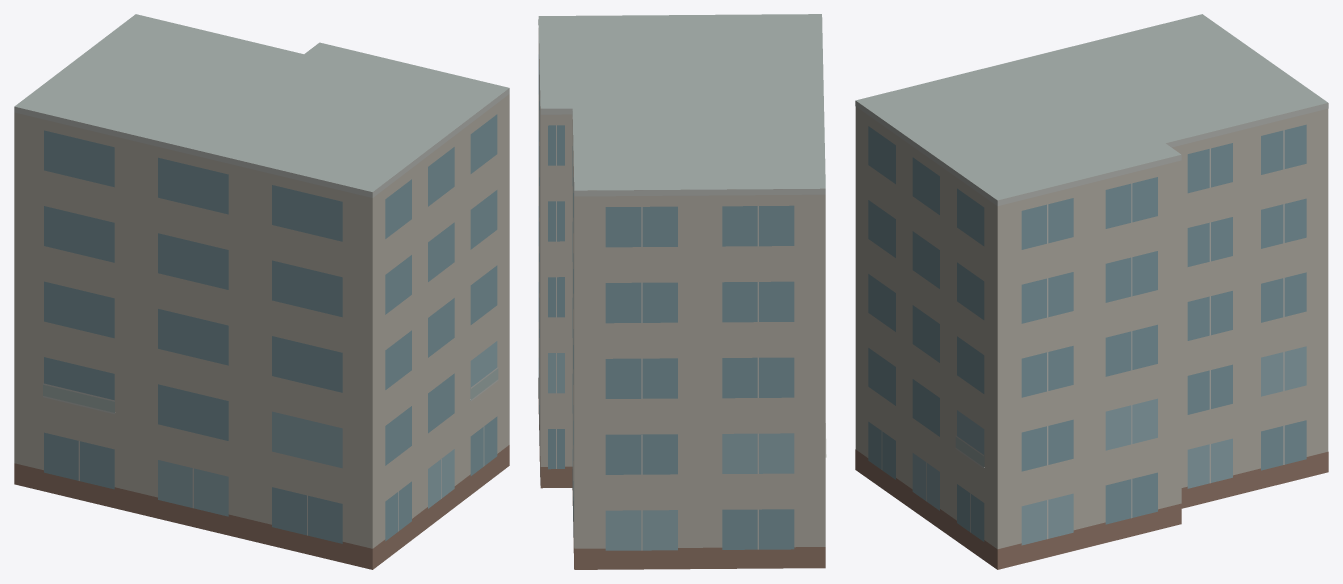
The model's file is survey-upis-32969848.glb.
3 views of the same model, side by side, from view 1: azimuth 30°, elevation 25°; view 2: azimuth 150°, elevation 25°; view 3: azimuth 270°, elevation 25° (orthographic). The views are drawn at different scales.
Parts seen in each view (by area): view 1: survey-upis-32969848.tmp; view 2: survey-upis-32969848.tmp; view 3: survey-upis-32969848.tmp.
Boxes of the visible parts, bbox=[...] form: survey-upis-32969848.tmp: bbox=[14, 14, 509, 569]; survey-upis-32969848.tmp: bbox=[538, 14, 826, 569]; survey-upis-32969848.tmp: bbox=[855, 14, 1328, 569].
Bounding box in the file's own units: 16.99 × 15.69 × 18.21.
